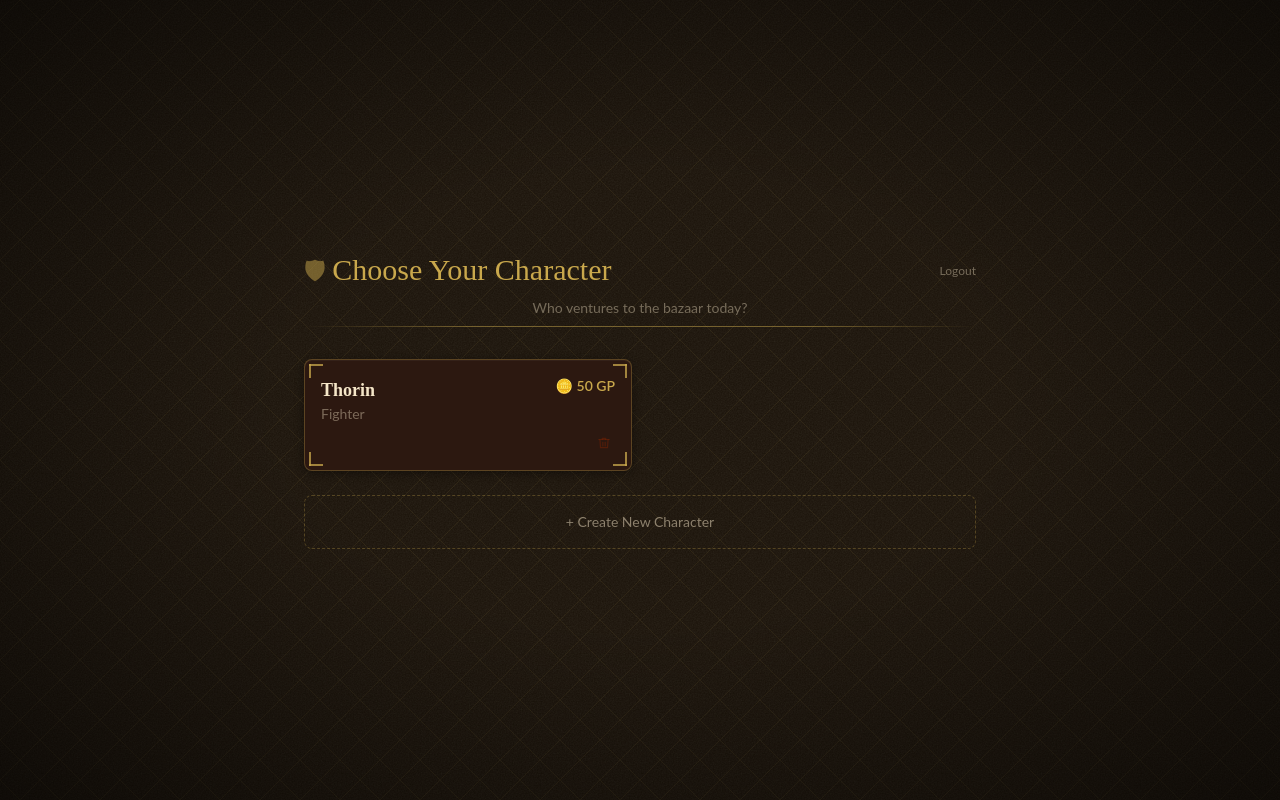
Scenario: CharacterSelectPage — delete character › clicking delete opens the confirmation modal
This screenshot has width=1280, height=800.
Check: the text "Thorin" is shown, box [321,376,375,404]
Click the button named "Delete Thorin".
click(604, 442)  # box [593,432,615,454]
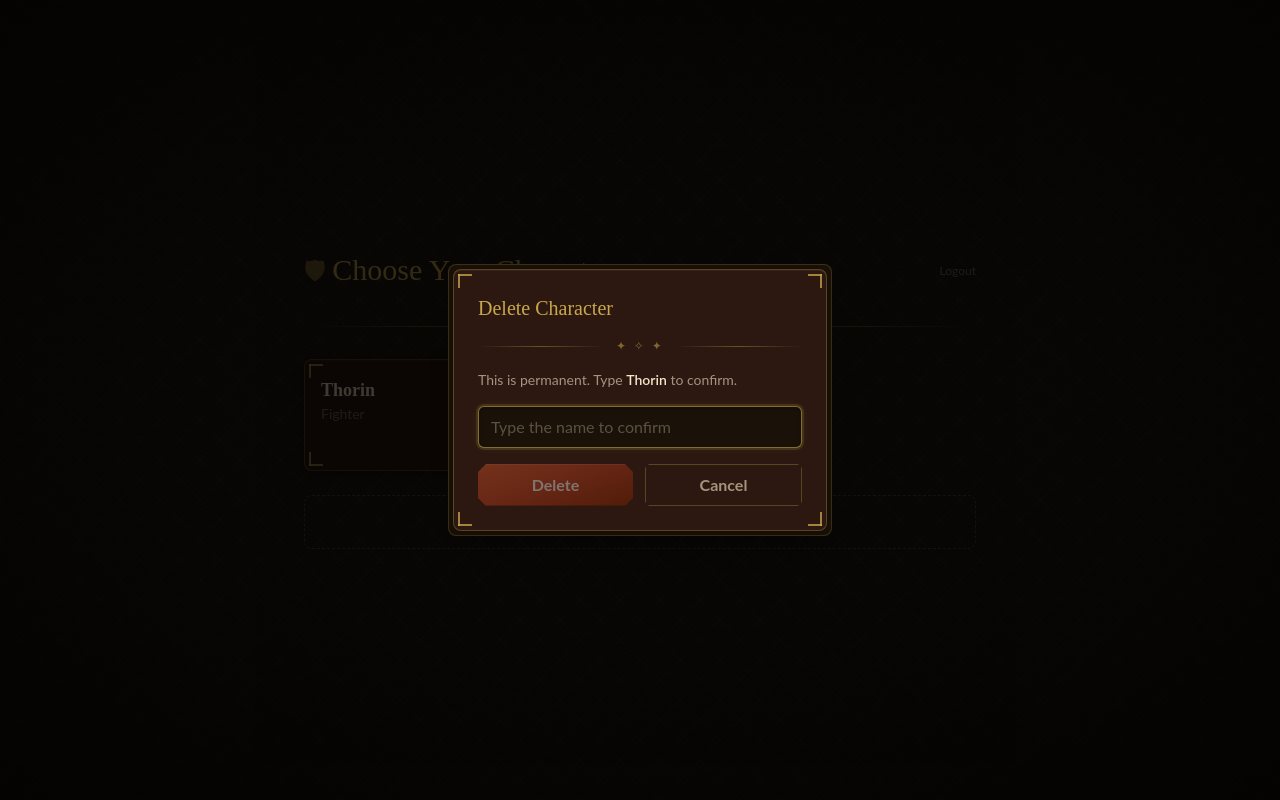
Check: the heading "Delete Character" is shown, box [478,297,613,319]
Check: the field with placeholder "Type the name to confirm" is shown, box [478,406,802,448]
